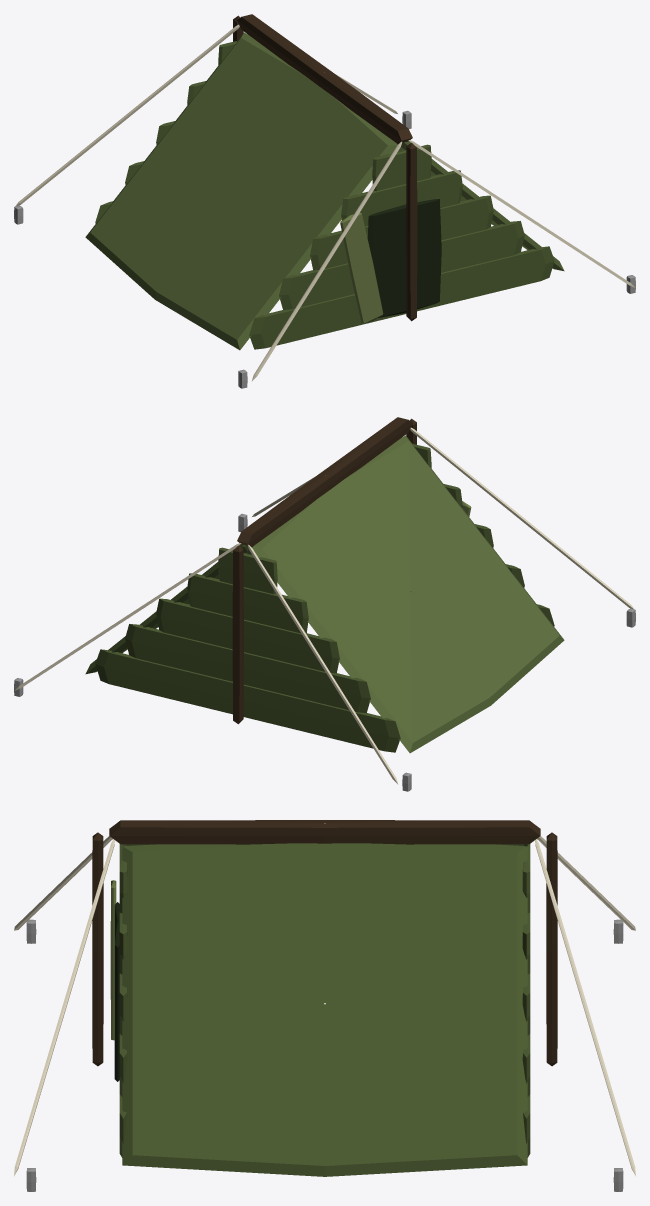
File: r-tent.glb
3 views of the same model, one above another, from view 1: azimuth 30°, elevation 25°; view 2: azimuth 150°, elevation 25°; view 3: azimuth 270°, elevation 25° (orthographic). The views are drawn at different scales.
Parts seen in each view (by area): view 1: p; view 2: p; view 3: p.
Part boxes in pixels (x1,y1,x2,y2): p: (14, 14, 635, 388); p: (14, 417, 635, 791); p: (14, 820, 635, 1191).
Size of the model in its own units: 3.05 by 1.39 by 3.18.
